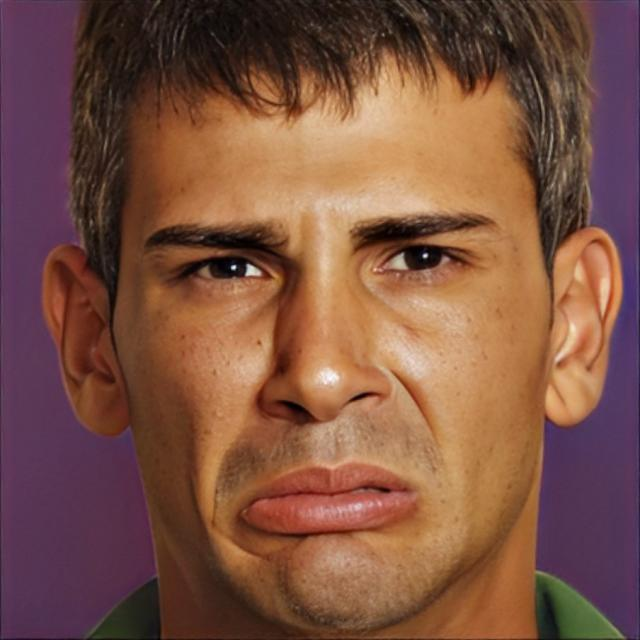disgust: (110, 14, 551, 634)
